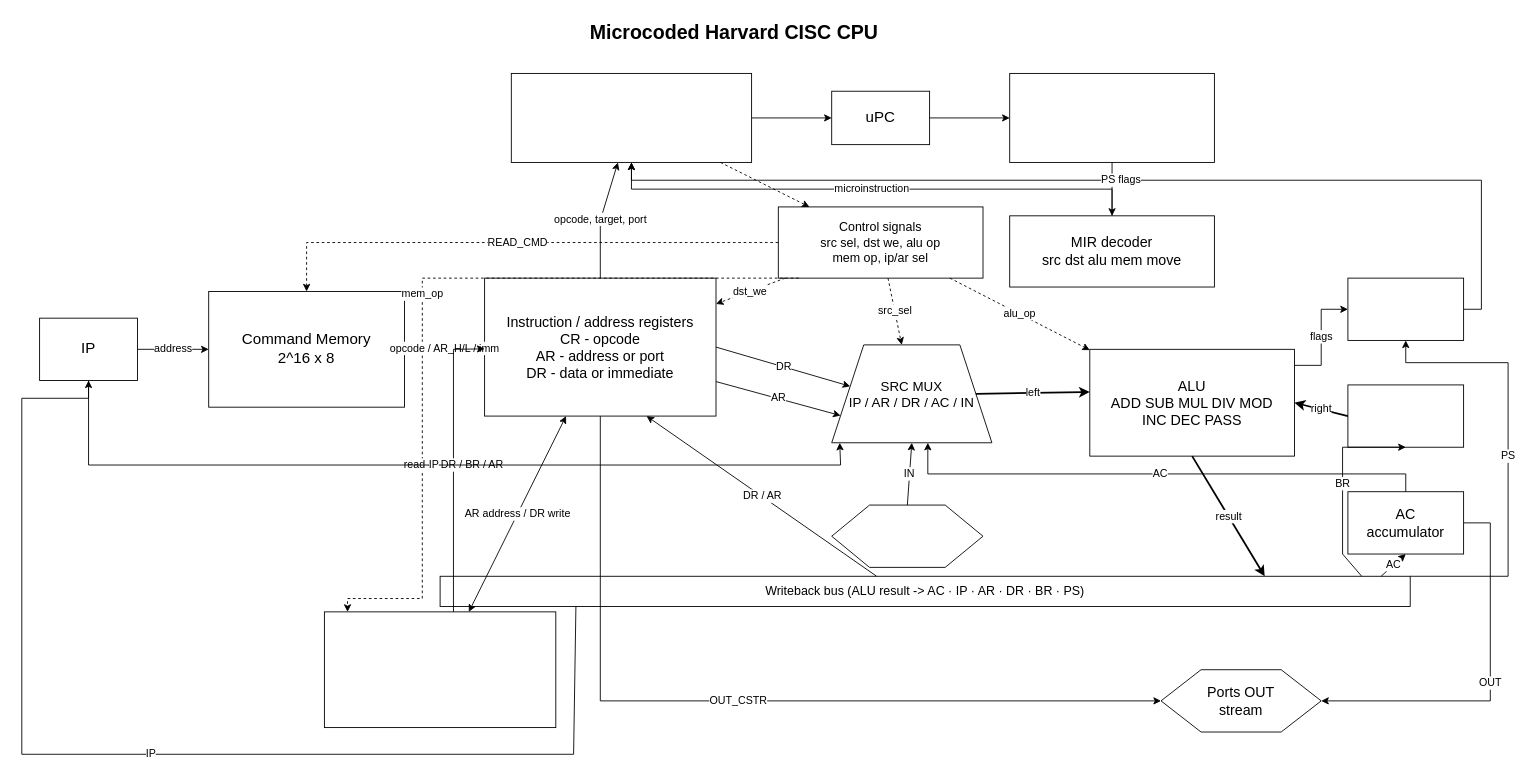
Image size: 1531x777. Some labels were removed from this diagram. The centre of each missing label's shape, as x and y in pixels:
"BR right operand" belongs at pixel 1405 415.
"Control Unit dispatch, branches, port I/O superscalar issue: LD+MUL / LD+CMP" belongs at pixel 631 117.
"Data Memory 2^16 x 32 .word / .cstr" belongs at pixel 440 669.
"Microcode Memory 256 x 24" belongs at pixel 1111 117.
"Port IN stream" belongs at pixel 907 535.
"PS N Z V C" belongs at pixel 1405 308.
